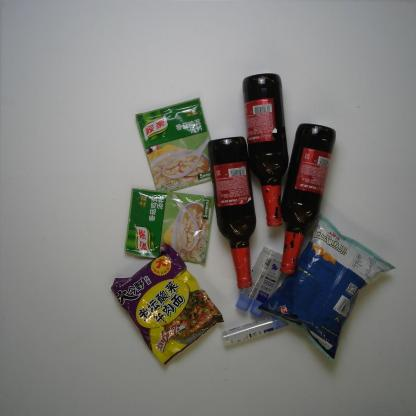Alcohol: (281, 122, 338, 276), (205, 136, 254, 288), (240, 73, 287, 229)
Instant Noodles: (111, 242, 224, 368)
Puffed Food: (260, 213, 396, 362)
Seasoner: (134, 97, 221, 196), (123, 188, 217, 266)
Stationery: (234, 247, 276, 312), (249, 251, 288, 321), (223, 313, 292, 347)
